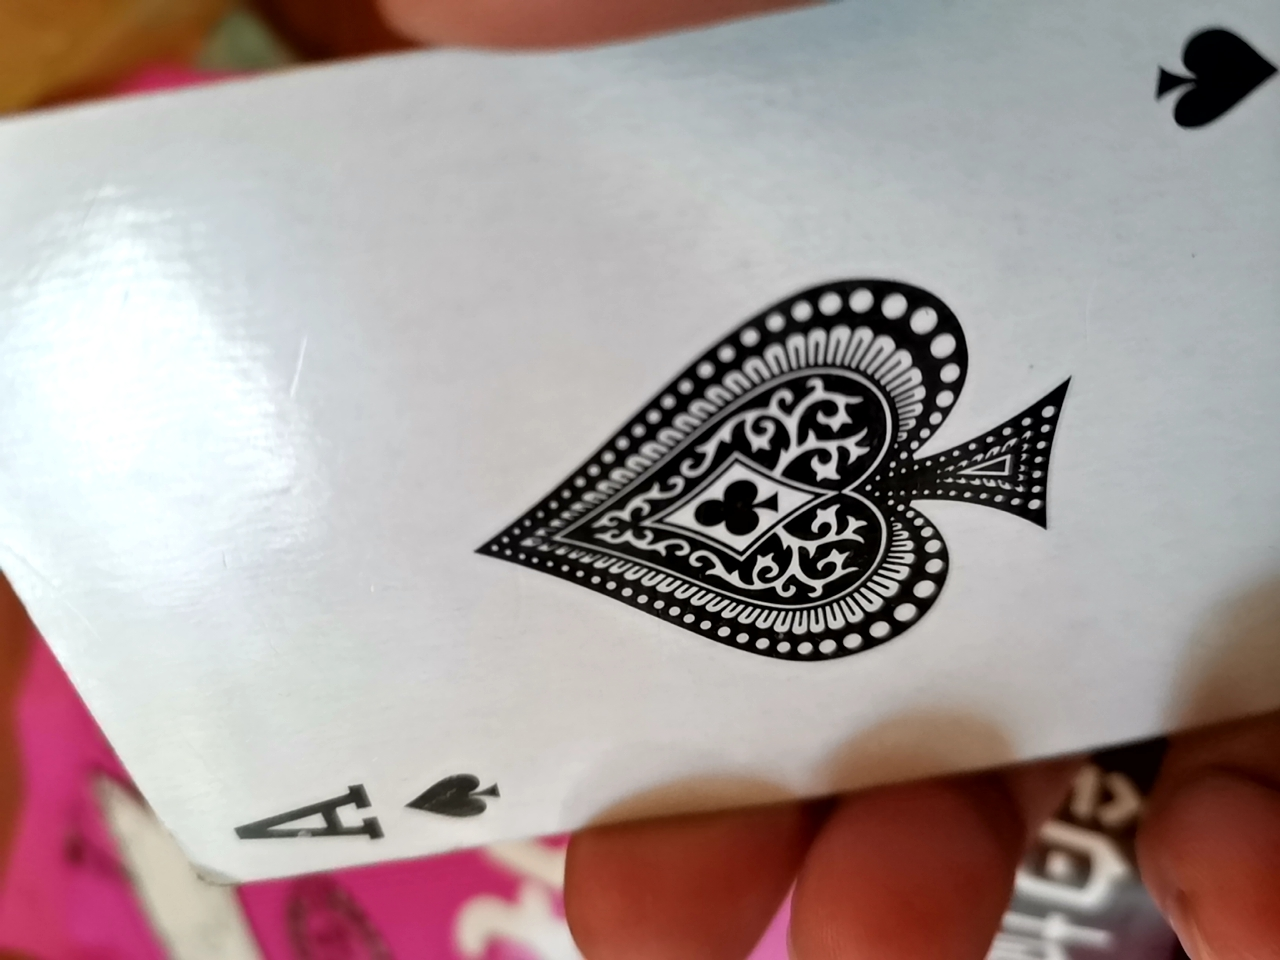ht a: (8, 12, 1276, 953)
